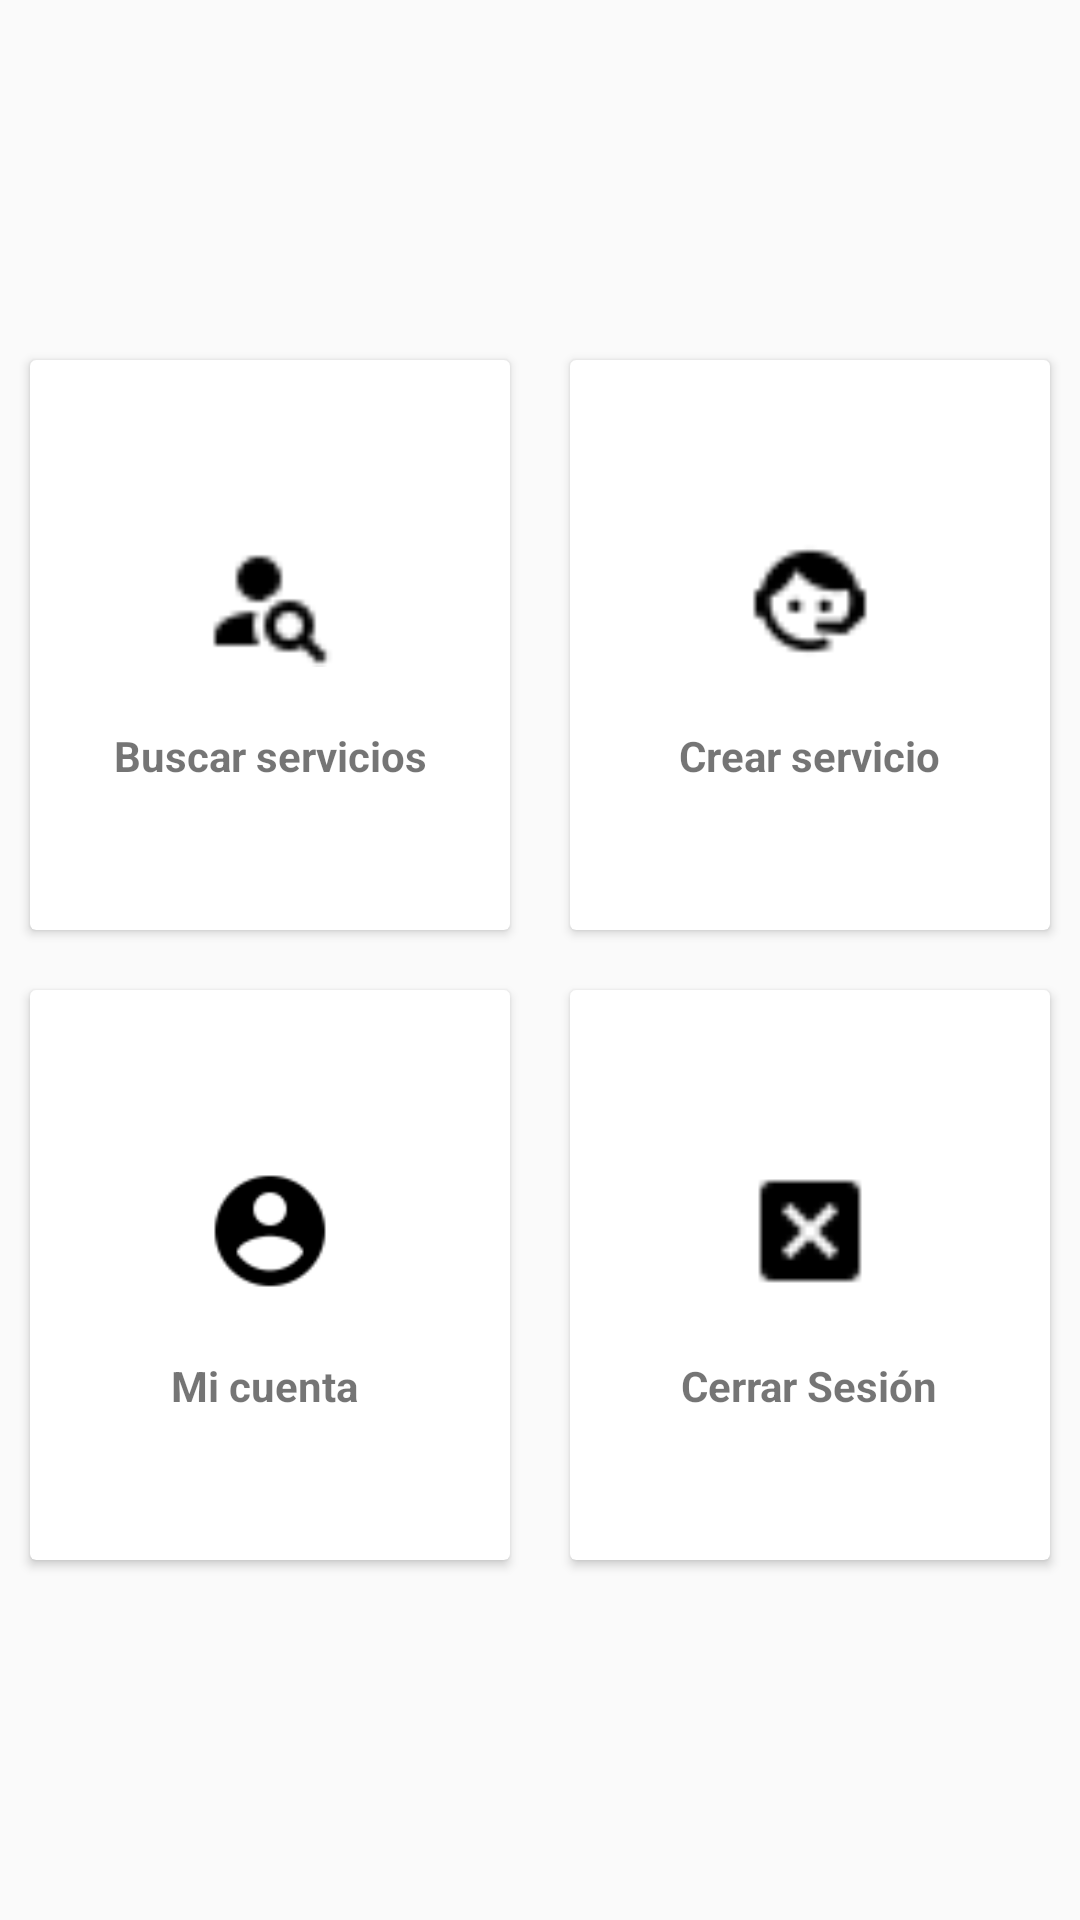

Where to tap for icons on this 1080×1920 app screen, as point (x, y):
accountcircle: point (270, 1231)
accountsearch: point (270, 609)
closebox: point (810, 1231)
faceagent: point (810, 601)
